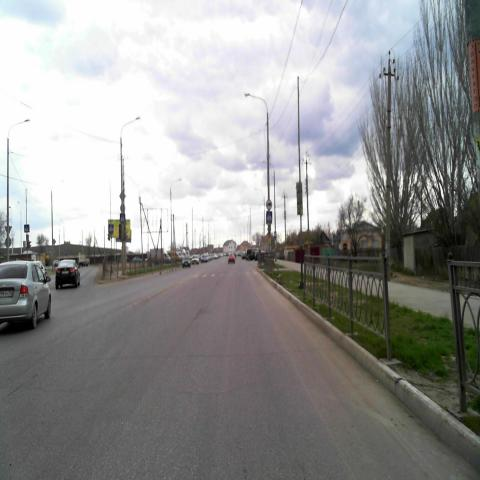3_4_1: (266, 200, 272, 210)
5_19_1: (266, 211, 272, 223), (24, 223, 30, 233), (108, 223, 114, 233), (120, 213, 125, 222)
